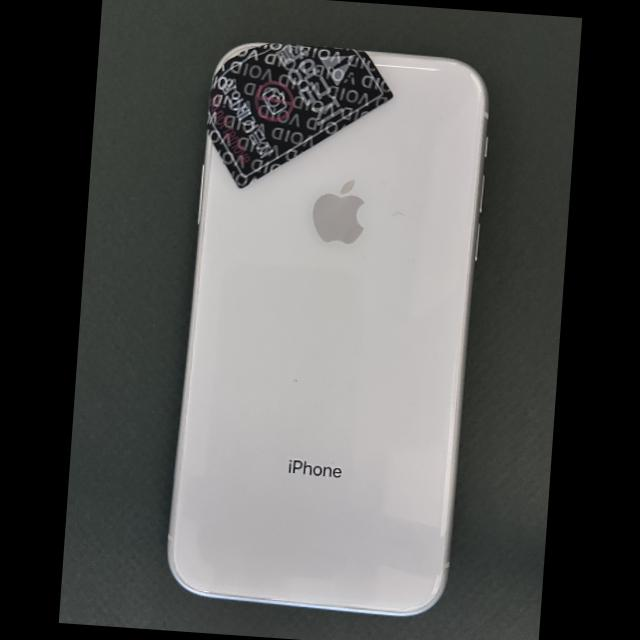phone: (166, 41, 489, 617)
sticker: (206, 42, 394, 189)
